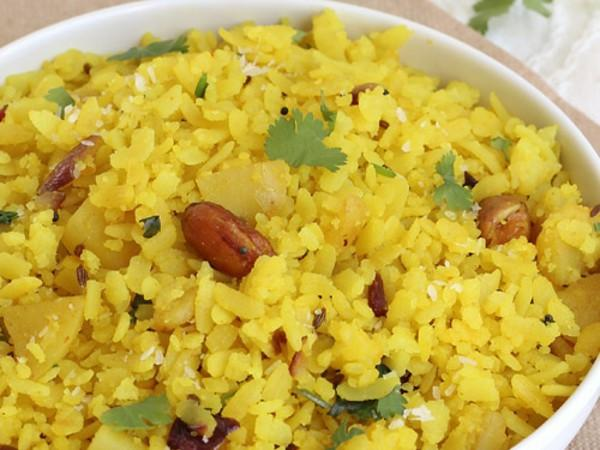Poha: (0, 12, 600, 450)
